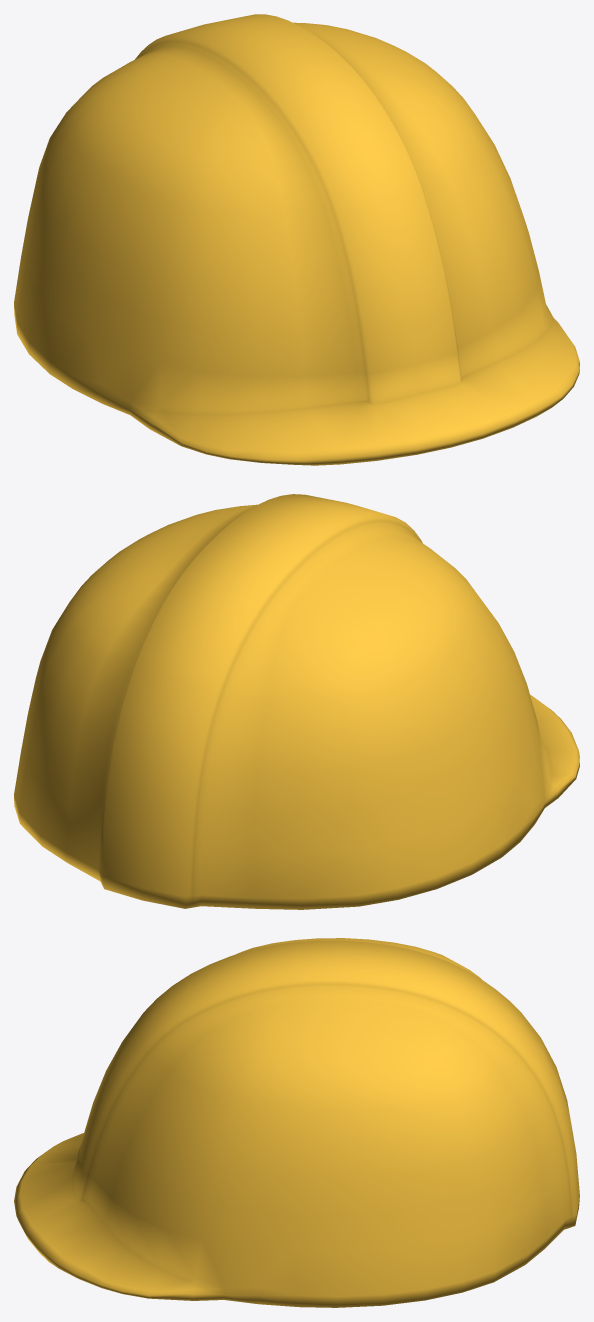
The model's file is Workers Hat.fbx.
The picture shows the model from 3 angles, top to bottom: view 1: azimuth 30°, elevation 25°; view 2: azimuth 150°, elevation 25°; view 3: azimuth 270°, elevation 25°; orthographic projection. The views are drawn at different scales.
Visible parts, largest first — view 1: Workers hat; view 2: Workers hat; view 3: Workers hat.
Part boxes in pixels (x1=…): Workers hat: x1=14, y1=14, x2=579, y2=465; Workers hat: x1=14, y1=494, x2=579, y2=909; Workers hat: x1=14, y1=938, x2=579, y2=1307.
Bounding box in the file's own units: 38.48 × 22.64 × 45.8.
